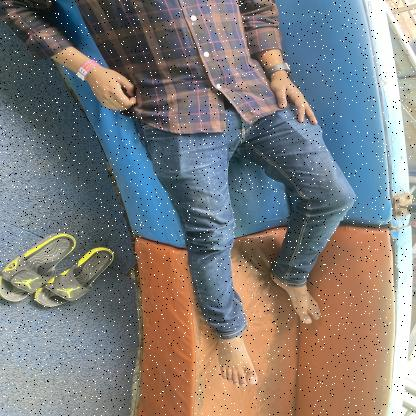hand: (240, 35, 339, 129), (32, 44, 148, 115)
leg: (251, 157, 376, 331), (156, 230, 263, 392)
